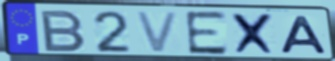2: (92, 10, 133, 54)
A: (279, 15, 331, 56)
B: (40, 9, 88, 53)
E: (183, 10, 230, 57)
V: (133, 10, 182, 55)
X: (229, 12, 279, 57)
